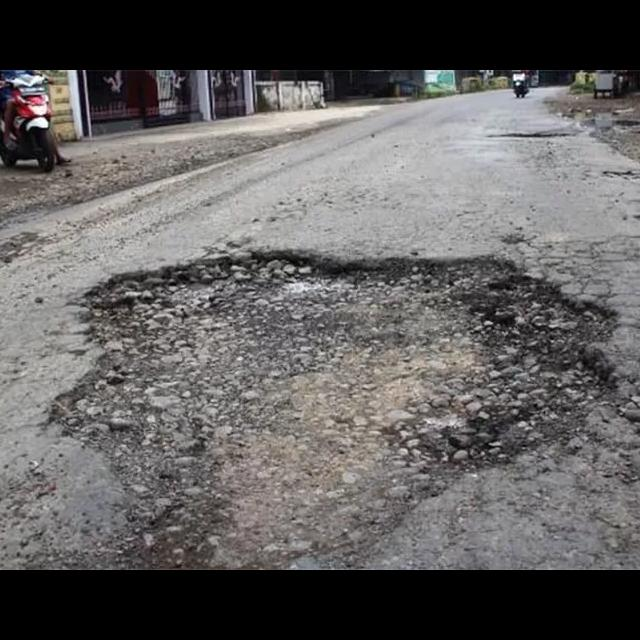lubang_kecil: (20, 251, 603, 570), (473, 121, 574, 145), (581, 157, 640, 189), (625, 202, 640, 237)
